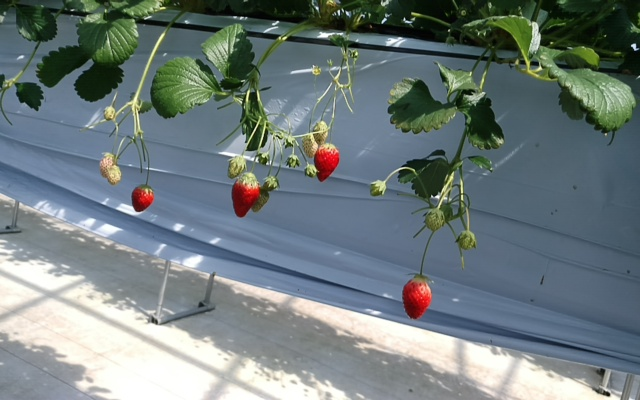GreenStrawberry: (297, 130, 317, 159), (225, 156, 245, 182), (97, 152, 115, 179), (424, 211, 445, 233), (250, 189, 269, 211), (313, 121, 329, 146), (456, 232, 478, 250), (106, 164, 122, 187)
MatureStrawberry: (401, 273, 434, 323), (227, 174, 260, 219), (312, 144, 339, 182), (131, 183, 155, 213)
